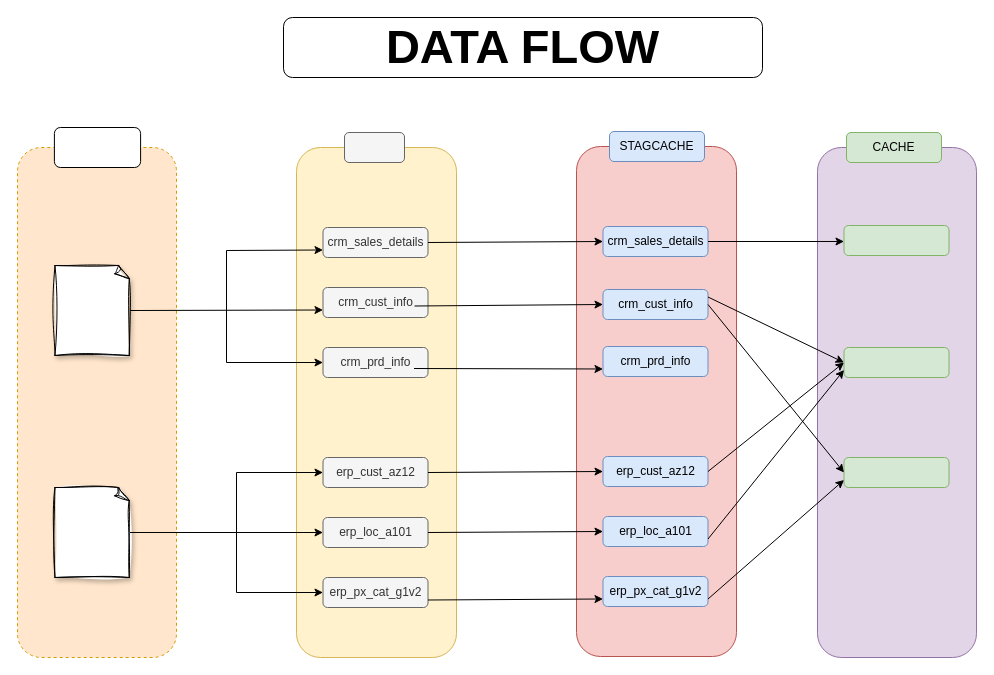
The diagram is 994 pixels wide and 675 high, and some of its shapes have lost their labels. Here are the shapes that lost their labels. From the top down, the centre of each, then its label:
At point 97,147: "SOURCE".
At point 374,147: "STAGING".
At point 896,240: "fact_sales".
At point 93,311: "CRM".
At point 896,362: "dim_customer".
At point 896,472: "dim_product".
At point 93,533: "ERP".
